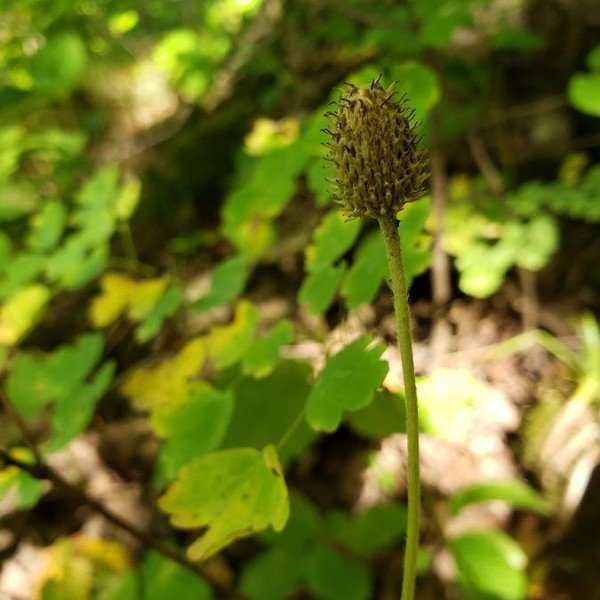obstacle: (276, 73, 465, 572), (156, 272, 378, 568)
